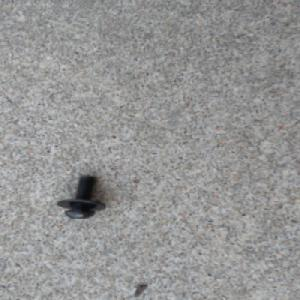BoltWasher: (54, 174, 107, 219)
